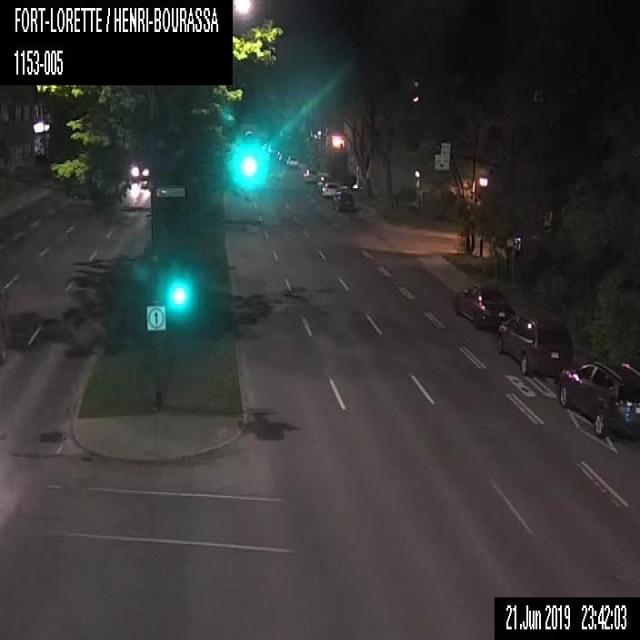vehicle: (557, 360, 639, 439), (497, 310, 576, 376), (453, 280, 514, 329), (333, 190, 355, 212), (320, 179, 341, 198), (300, 166, 317, 181), (285, 154, 298, 166)
